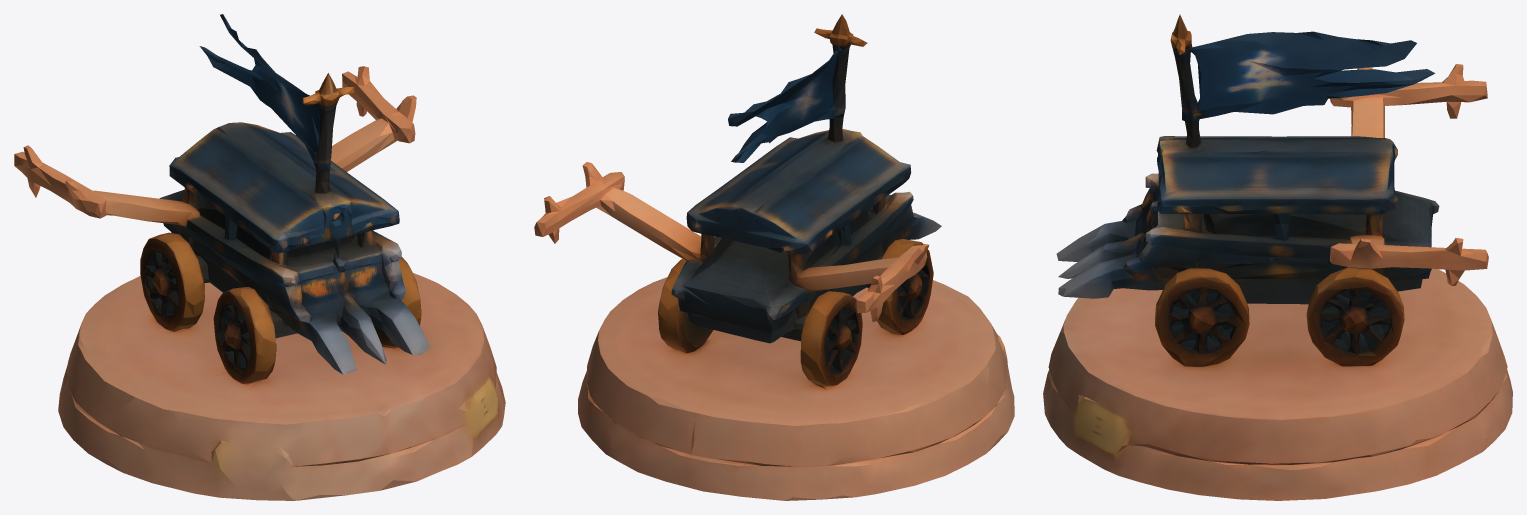
The model's file is chariot_black.glb.
3 views of the same model, side by side, from view 1: azimuth 30°, elevation 25°; view 2: azimuth 150°, elevation 25°; view 3: azimuth 270°, elevation 25° (orthographic). The views are drawn at different scales.
Visible parts, largest first — view 1: Mesh; view 2: Mesh; view 3: Mesh.
Part boxes in pixels (x1,y1,x2,y2): Mesh: [14, 14, 505, 500]; Mesh: [534, 14, 1014, 500]; Mesh: [1043, 14, 1512, 500].
Bounding box in the file's own units: 1.88 × 1.71 × 1.88.
Materials: 1 (1 with a texture image).
